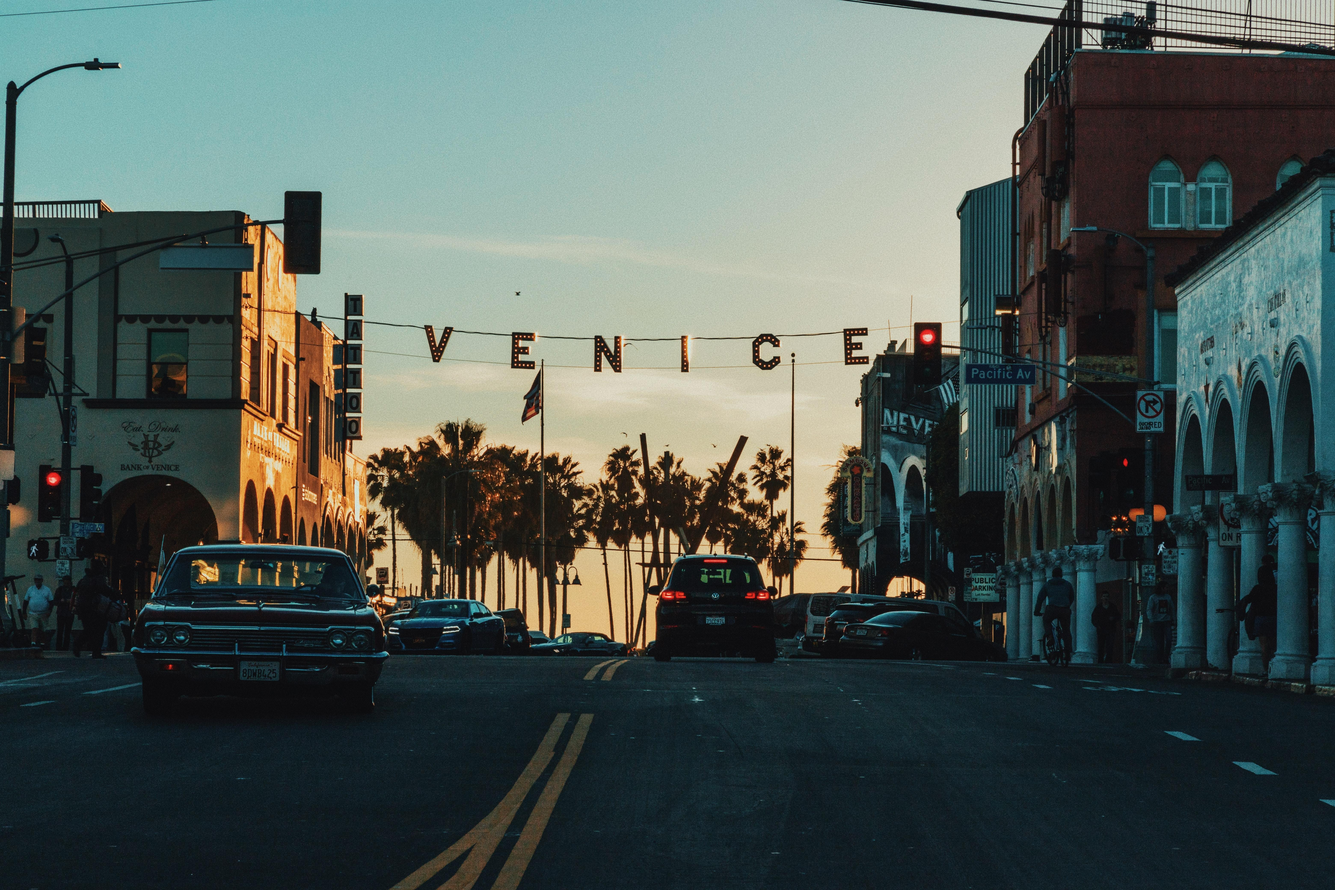red: (909, 314, 950, 392)
